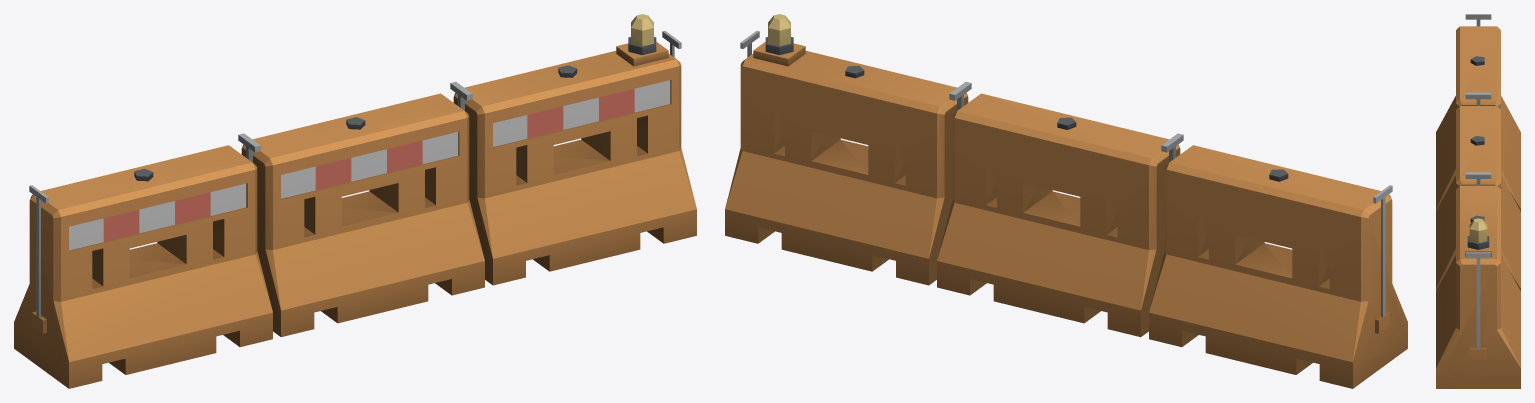
The model's file is waterbar.glb.
3 renders of one model, left to right at view 1: azimuth 30°, elevation 25°; view 2: azimuth 150°, elevation 25°; view 3: azimuth 270°, elevation 25°, orthographic. The views are drawn at different scales.
Parts seen in each view (by area): view 1: waterbar; view 2: waterbar; view 3: waterbar.
Boxes of the visible parts, left/top/right/bottom form: waterbar: left=14, top=14, right=696, bottom=388; waterbar: left=725, top=14, right=1407, bottom=388; waterbar: left=1436, top=14, right=1520, bottom=388.
Size of the model in its own units: 4 by 1.24 by 0.6.
